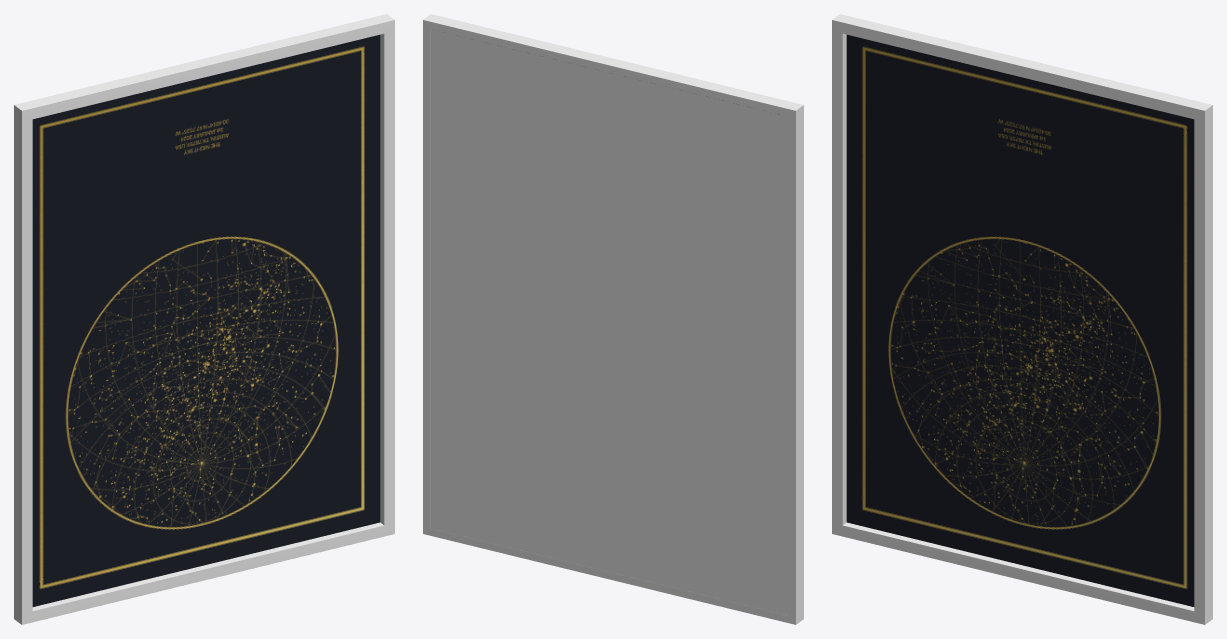
File: tns.glb
3 renders of one model, left to right at view 1: azimuth 30°, elevation 25°; view 2: azimuth 150°, elevation 25°; view 3: azimuth 330°, elevation 25°, orthographic.
Parts seen in each view (by area): view 1: Generated; view 2: Generated; view 3: Generated.
Boxes of the visible parts, x1=… form: Generated: x1=14, y1=14, x2=394, y2=624; Generated: x1=423, y1=14, x2=803, y2=624; Generated: x1=832, y1=14, x2=1212, y2=624.
Bounding box in the file's own units: 0.5397 × 0.7109 × 0.0202.
Materials: 3 (1 with a texture image).
